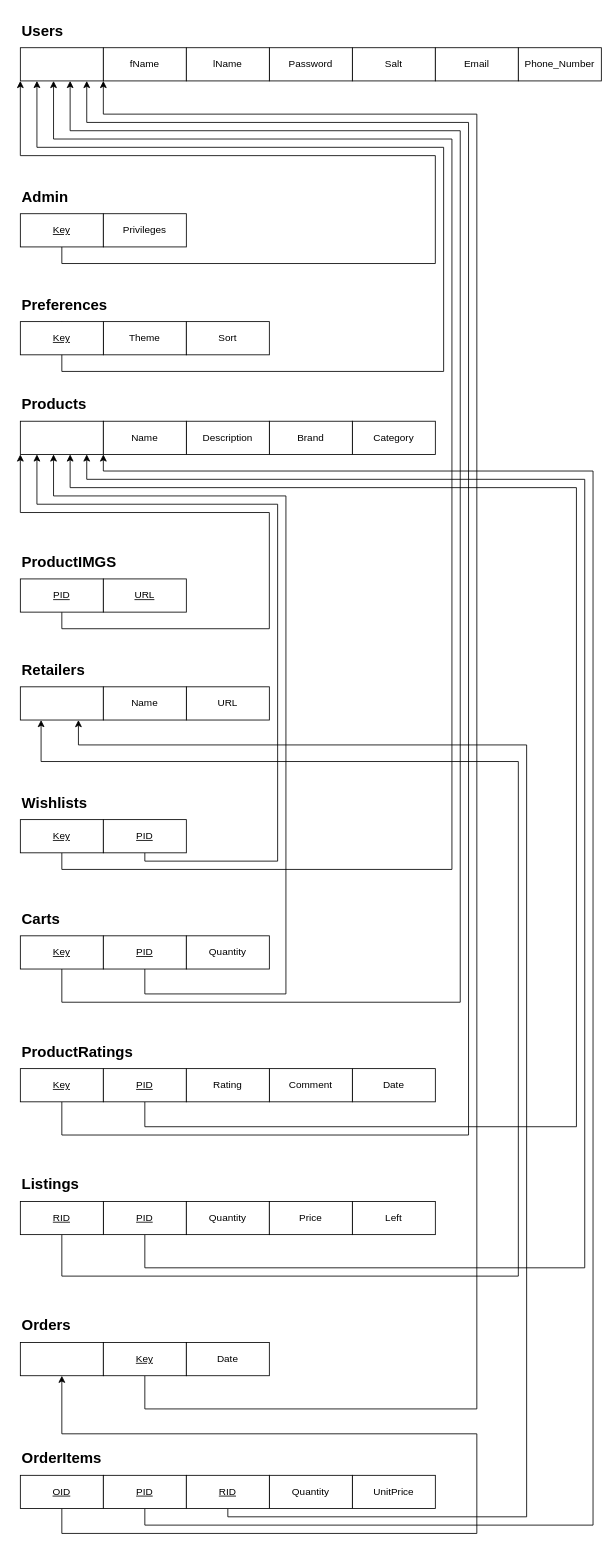
The diagram is 616 pixels wide and 1555 high, and some of its shapes have lost their labels. Here are the shapes that lost their labels. From the top down, the centre of each, then its label:
At pixel 61 64: "API_Key".
At pixel 61 437: "ProductID".
At pixel 61 703: "RetailerID".
At pixel 61 1359: "OrderID".
